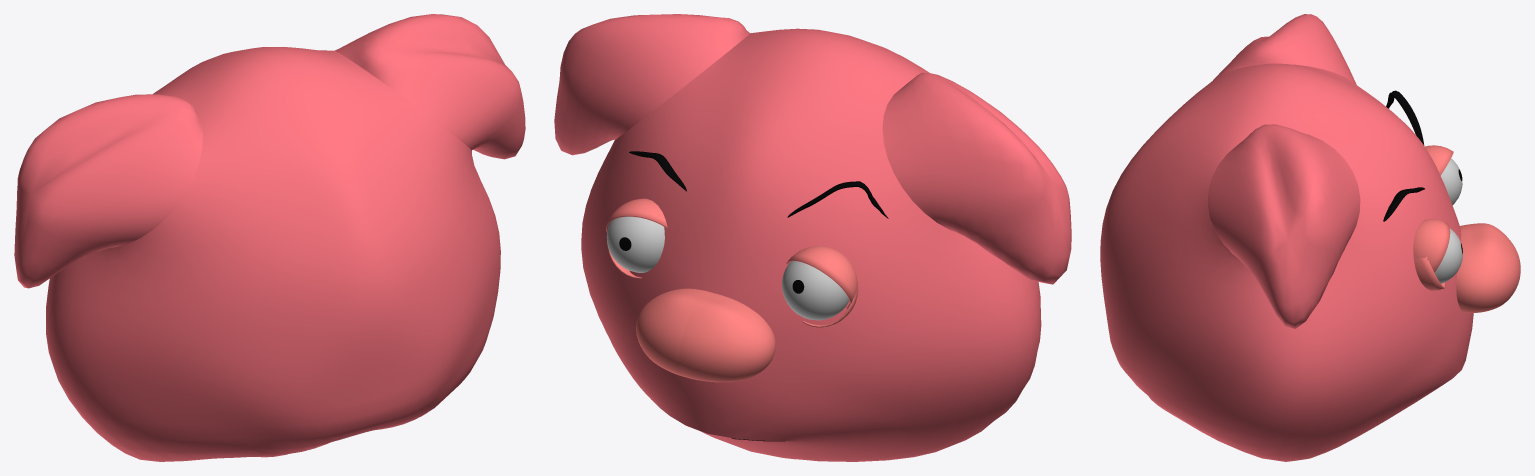
The model's file is [3]rightBrow.obj.
The picture shows the model from 3 angles, left to right: view 1: azimuth 30°, elevation 25°; view 2: azimuth 150°, elevation 25°; view 3: azimuth 270°, elevation 25°; orthographic projection. The views are drawn at different scales.
Visible parts, largest first — view 1: Head_Roundcube; view 2: Head_Roundcube, Head.002_Roundcube.002, Eyeball.001_Sphere.005, Eyeball_Sphere, Eyelid_Bottom_Left.003_Sphere.011, Head.001_Roundcube.001, Eyelid_Bottom_Left.002_Sphere.009; view 3: Head_Roundcube, Head.002_Roundcube.002, Eyelid_Bottom_Left.002_Sphere.009, Head.001_Roundcube.001, Eyeball_Sphere, Eyeball.001_Sphere.005, Eyelid_Bottom_Left_Sphere.003, Eyelid_Bottom_Left.003_Sphere.011.
Boxes of the visible parts, bbox=[...] form: Head_Roundcube: bbox=[14, 14, 525, 461]; Head_Roundcube: bbox=[554, 14, 1071, 461]; Head.002_Roundcube.002: bbox=[636, 288, 775, 382]; Eyeball.001_Sphere.005: bbox=[782, 261, 849, 320]; Eyeball_Sphere: bbox=[606, 216, 664, 272]; Eyelid_Bottom_Left.003_Sphere.011: bbox=[786, 246, 857, 308]; Head.001_Roundcube.001: bbox=[629, 151, 888, 218]; Eyelid_Bottom_Left.002_Sphere.009: bbox=[606, 198, 667, 232]; Head_Roundcube: bbox=[1100, 14, 1473, 461]; Head.002_Roundcube.002: bbox=[1456, 223, 1520, 312]; Eyelid_Bottom_Left.002_Sphere.009: bbox=[1413, 219, 1450, 272]; Head.001_Roundcube.001: bbox=[1383, 90, 1424, 221]; Eyeball_Sphere: bbox=[1434, 228, 1462, 283]; Eyeball.001_Sphere.005: bbox=[1441, 158, 1462, 205]; Eyelid_Bottom_Left_Sphere.003: bbox=[1413, 256, 1445, 290]; Eyelid_Bottom_Left.003_Sphere.011: bbox=[1425, 145, 1453, 175].
Size of the model in its own units: 3.92 by 2.85 by 3.16.
